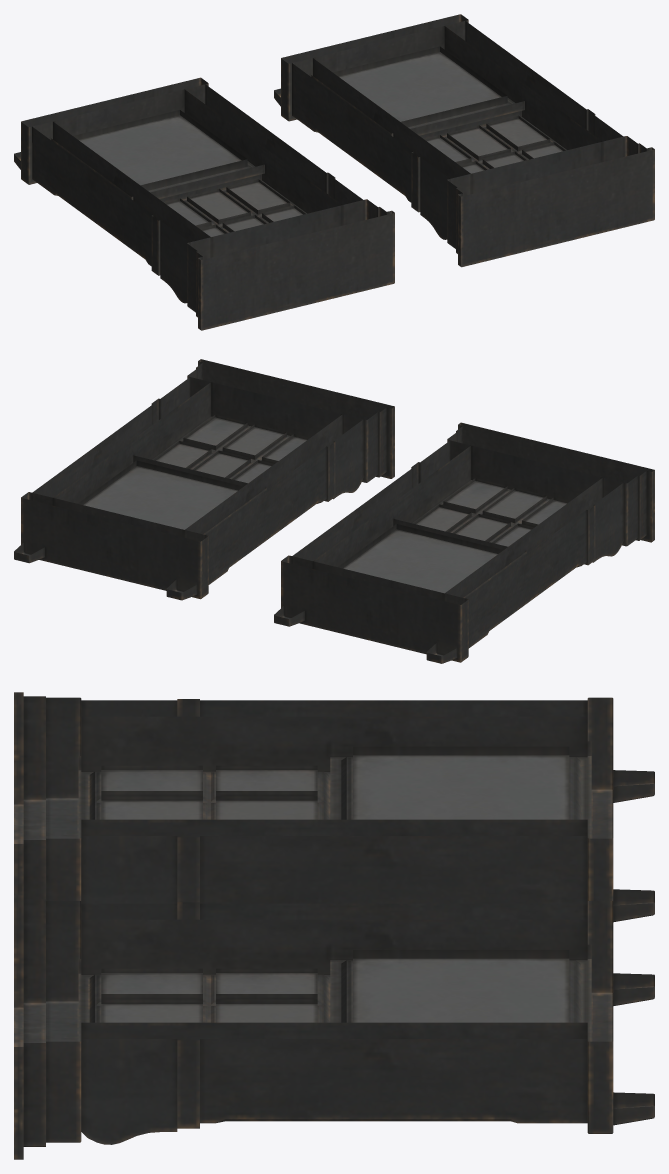
File: window_centered_double_02.gltf
3 renders of one model, top to bottom at view 1: azimuth 30°, elevation 25°; view 2: azimuth 150°, elevation 25°; view 3: azimuth 270°, elevation 25°, orthographic. The views are drawn at different scales.
Parts seen in each view (by area): view 1: window_centered_double_02; view 2: window_centered_double_02; view 3: window_centered_double_02.
Part boxes in pixels (bbox=[...]): window_centered_double_02: bbox=[14, 14, 654, 330]; window_centered_double_02: bbox=[14, 359, 654, 663]; window_centered_double_02: bbox=[14, 692, 654, 1159].
Size of the model in its own units: 2.62 by 0.39 by 2.
2 materials, 2 textured.
